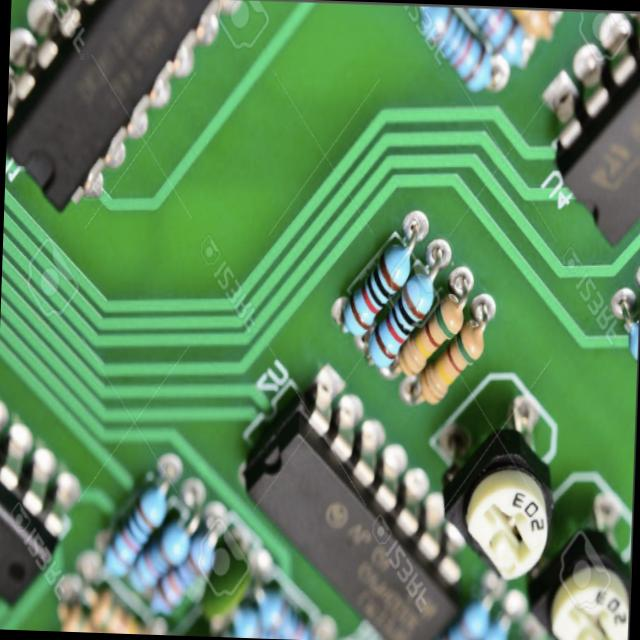IC: (239, 394, 468, 640), (3, 0, 215, 221)
resistor: (366, 243, 440, 377), (342, 225, 421, 342), (128, 488, 196, 598), (422, 308, 486, 421), (397, 285, 466, 389), (101, 476, 165, 580), (424, 4, 494, 96)
